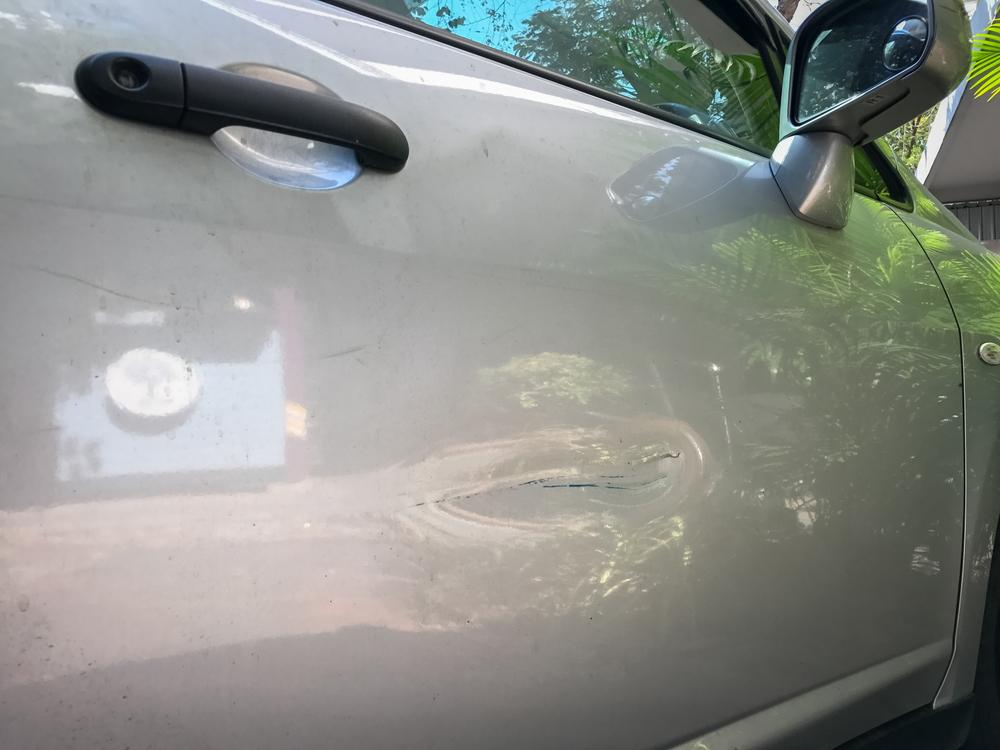dent: (430, 419, 704, 529)
